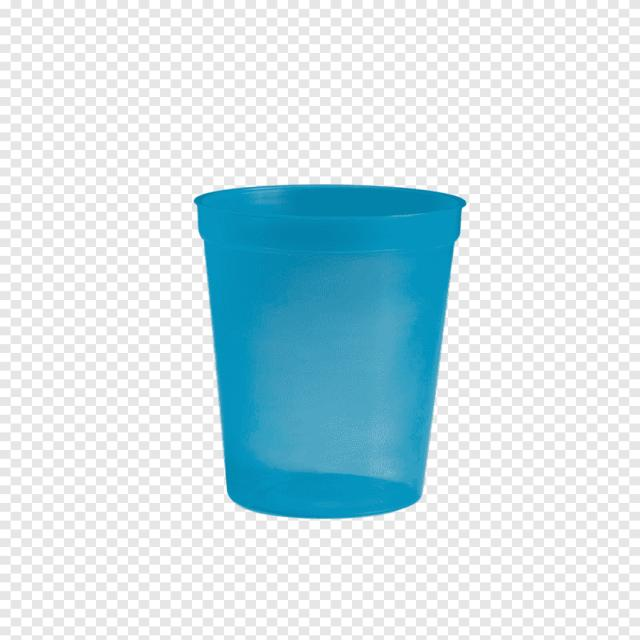Gelas: (167, 171, 468, 528)
